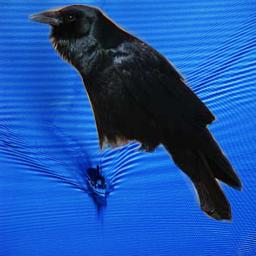Crow: (28, 4, 243, 223)
